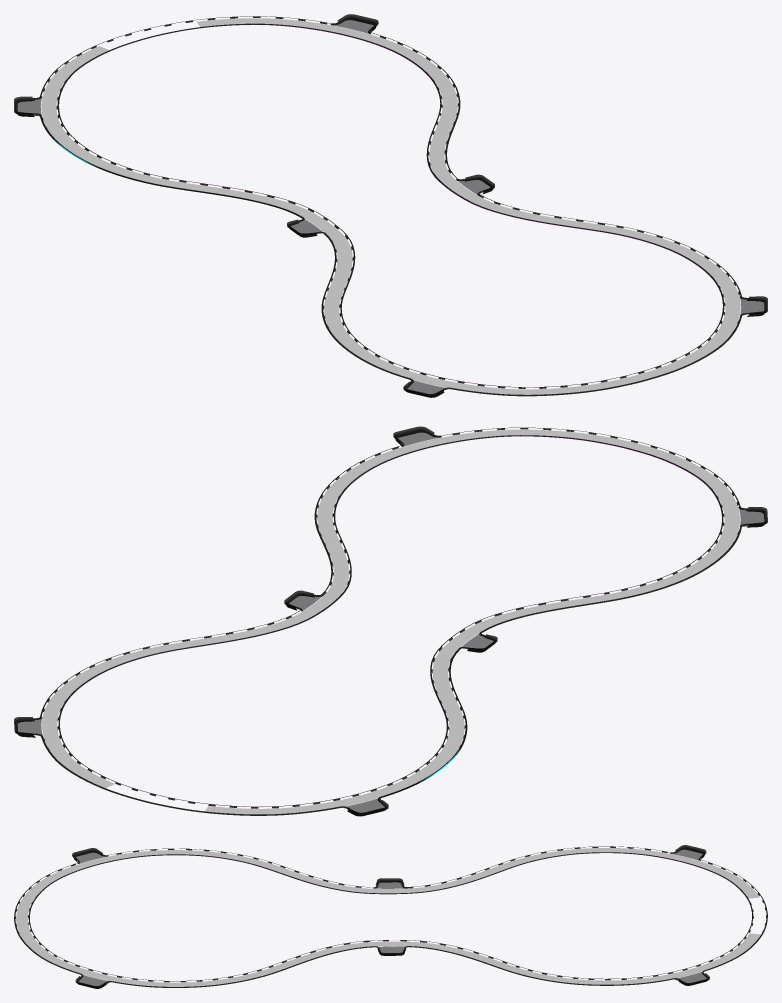
The model's file is Running (2).fbx.
The picture shows the model from 3 angles, top to bottom: view 1: azimuth 30°, elevation 25°; view 2: azimuth 150°, elevation 25°; view 3: azimuth 270°, elevation 25°; orthographic projection. The views are drawn at different scales.
Visible parts, largest first — view 1: SM_SmallArea__007.001; view 2: SM_SmallArea__007.001; view 3: SM_SmallArea__007.001.
Part boxes in pixels (x1=…): SM_SmallArea__007.001: x1=14, y1=14, x2=767, y2=397; SM_SmallArea__007.001: x1=14, y1=426, x2=767, y2=816; SM_SmallArea__007.001: x1=14, y1=845, x2=767, y2=988.
Size of the model in its own units: 23922 by 292 by 53917.
